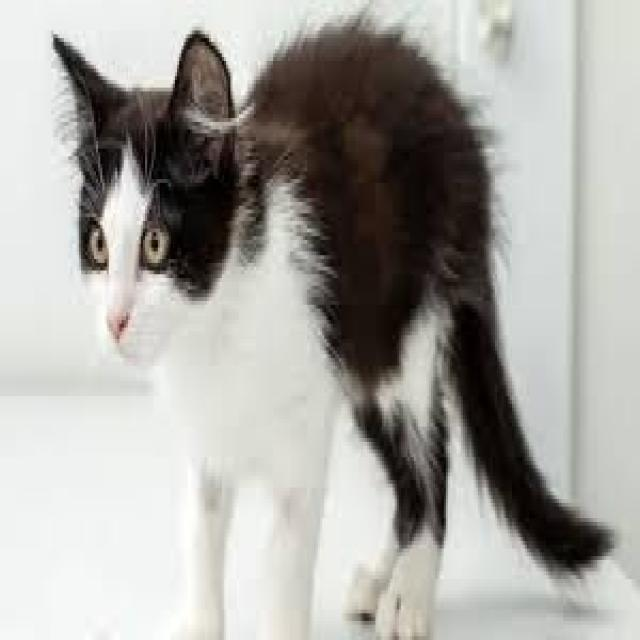cat: (49, 26, 616, 640)
